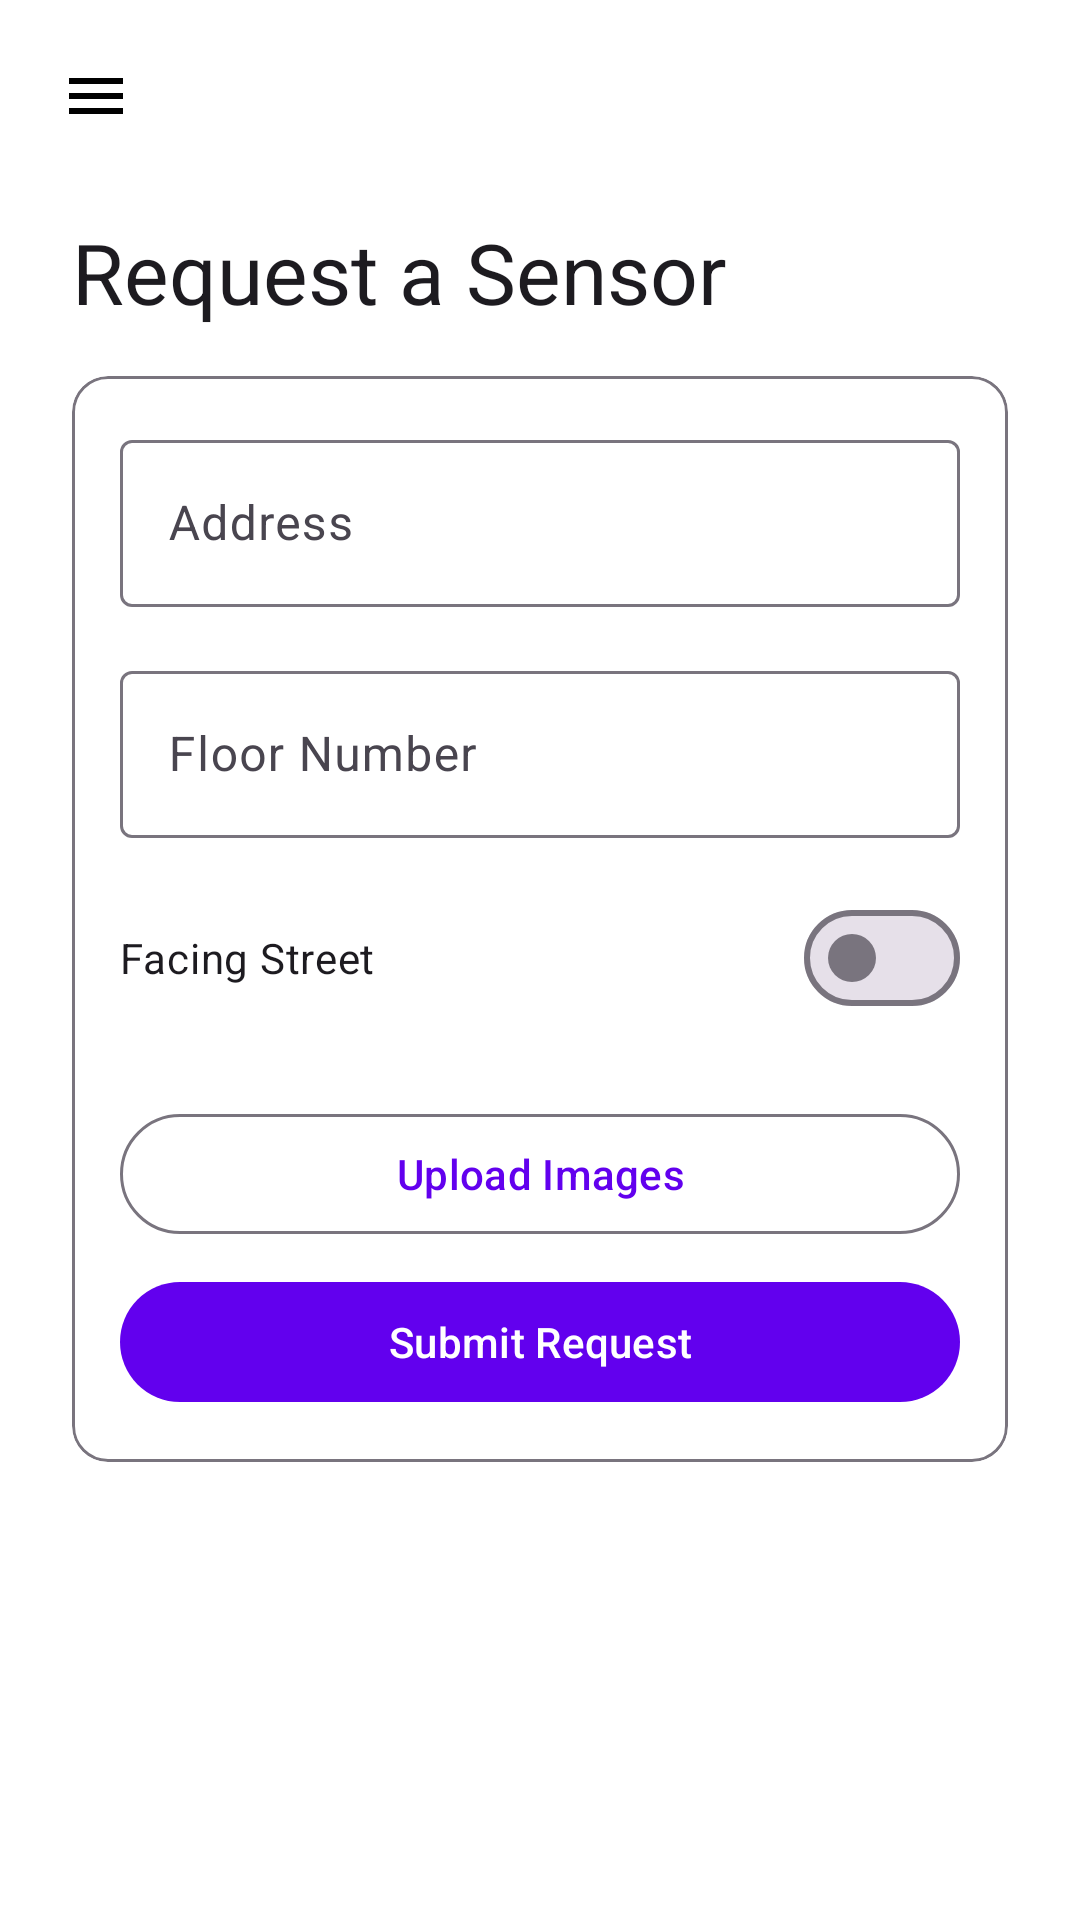

Screen size 1080 × 1920. Icon name, then its box in pixels as box=[x1, y1, x2, y2]:
Menu: box=[69, 78, 123, 114]
